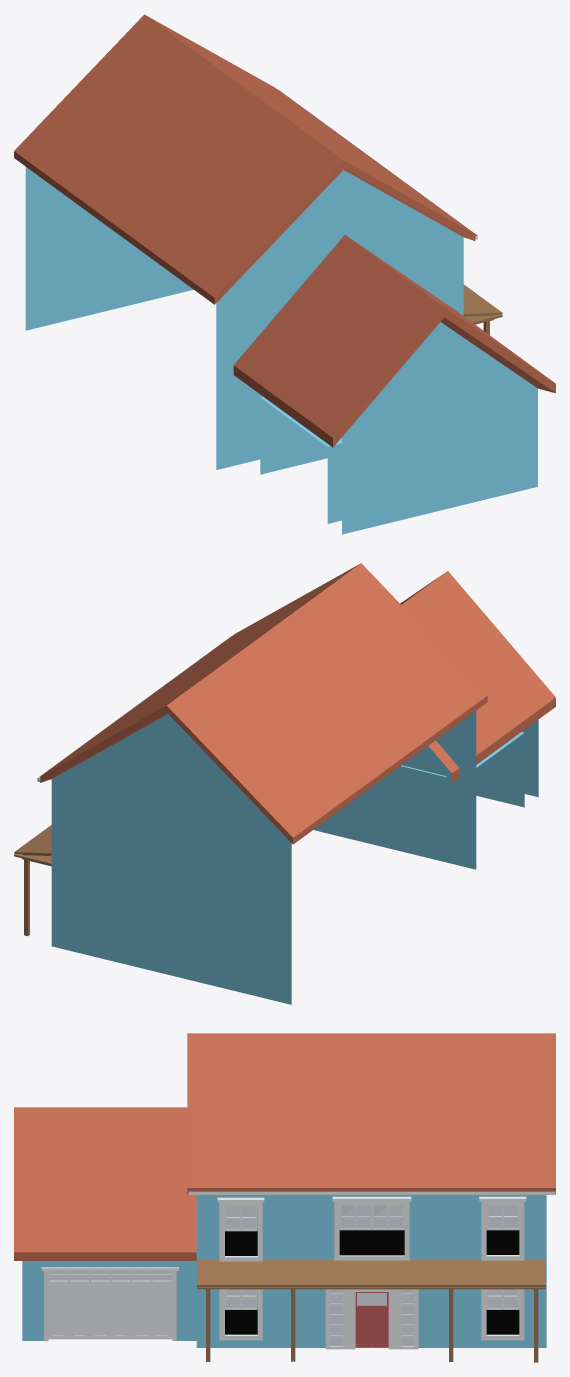
Rendered from Runner_House2.fbx.
3 views of the same model, one above another, from view 1: azimuth 30°, elevation 25°; view 2: azimuth 150°, elevation 25°; view 3: azimuth 270°, elevation 25° (orthographic). The views are drawn at different scales.
Visible parts, largest first — view 1: House_Runner2; view 2: House_Runner2; view 3: House_Runner2.
Boxes of the visible parts, left/top/right/bottom form: House_Runner2: left=14, top=14, right=555, bottom=534; House_Runner2: left=14, top=563, right=555, bottom=1004; House_Runner2: left=14, top=1033, right=555, bottom=1362.
Size of the model in its own units: 5690 by 5280 by 9918.
